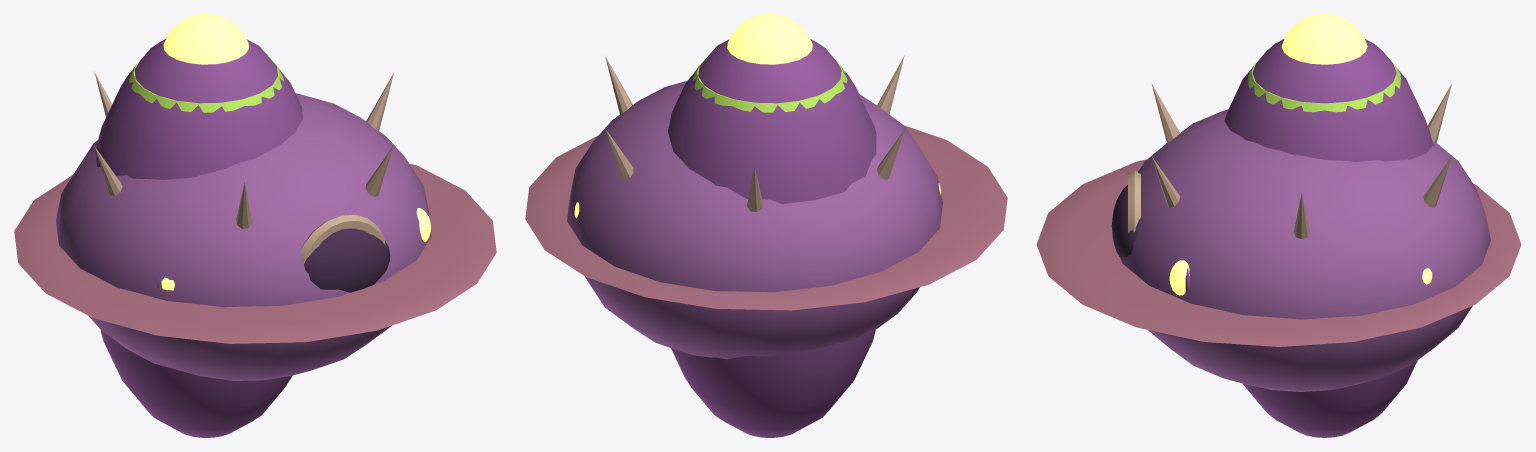
The model's file is cy_ins.glb.
3 views of the same model, side by side, from view 1: azimuth 30°, elevation 25°; view 2: azimuth 150°, elevation 25°; view 3: azimuth 270°, elevation 25° (orthographic).
Visible parts, largest first — view 1: cy_ins; view 2: cy_ins; view 3: cy_ins.
Part boxes in pixels (x1=…): cy_ins: x1=14, y1=14, x2=496, y2=437; cy_ins: x1=525, y1=14, x2=1007, y2=437; cy_ins: x1=1036, y1=14, x2=1521, y2=437.
Size of the model in its own units: 3.19 by 3 by 3.19.
